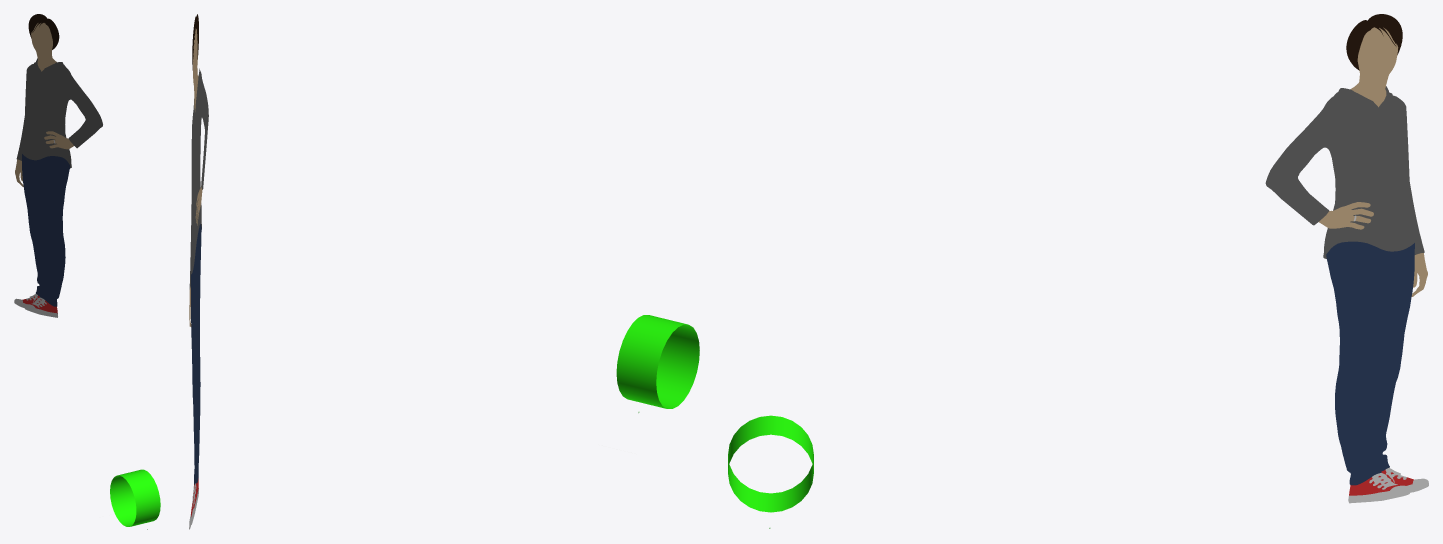
The model's file is marker.dae.
3 views of the same model, side by side, from view 1: azimuth 30°, elevation 25°; view 2: azimuth 150°, elevation 25°; view 3: azimuth 270°, elevation 25° (orthographic). The views are drawn at different scales.
Parts seen in each view (by area): view 1: ID19, ID105, ID121, ID13, ID67, ID35, ID47, ID87; view 2: ID121, ID19, ID105; view 3: ID19, ID105, ID121, ID13, ID67, ID35.
Part boxes in pixels (x1,y1,x2,y2): ID19: (16, 58, 102, 168); ID105: (22, 154, 69, 306); ID121: (110, 469, 160, 526); ID13: (31, 23, 56, 71); ID67: (28, 14, 59, 49); ID35: (44, 131, 73, 149); ID47: (14, 298, 57, 317); ID87: (22, 295, 57, 313); ID121: (616, 315, 699, 408); ID19: (189, 68, 208, 289); ID105: (191, 224, 201, 484); ID19: (1265, 86, 1424, 258); ID105: (1326, 241, 1414, 485); ID121: (728, 415, 813, 512); ID13: (1350, 27, 1398, 107); ID67: (1346, 14, 1402, 70); ID35: (1319, 202, 1373, 229).
Size of the model in its own units: 30.26 by 85.48 by 78.12.
